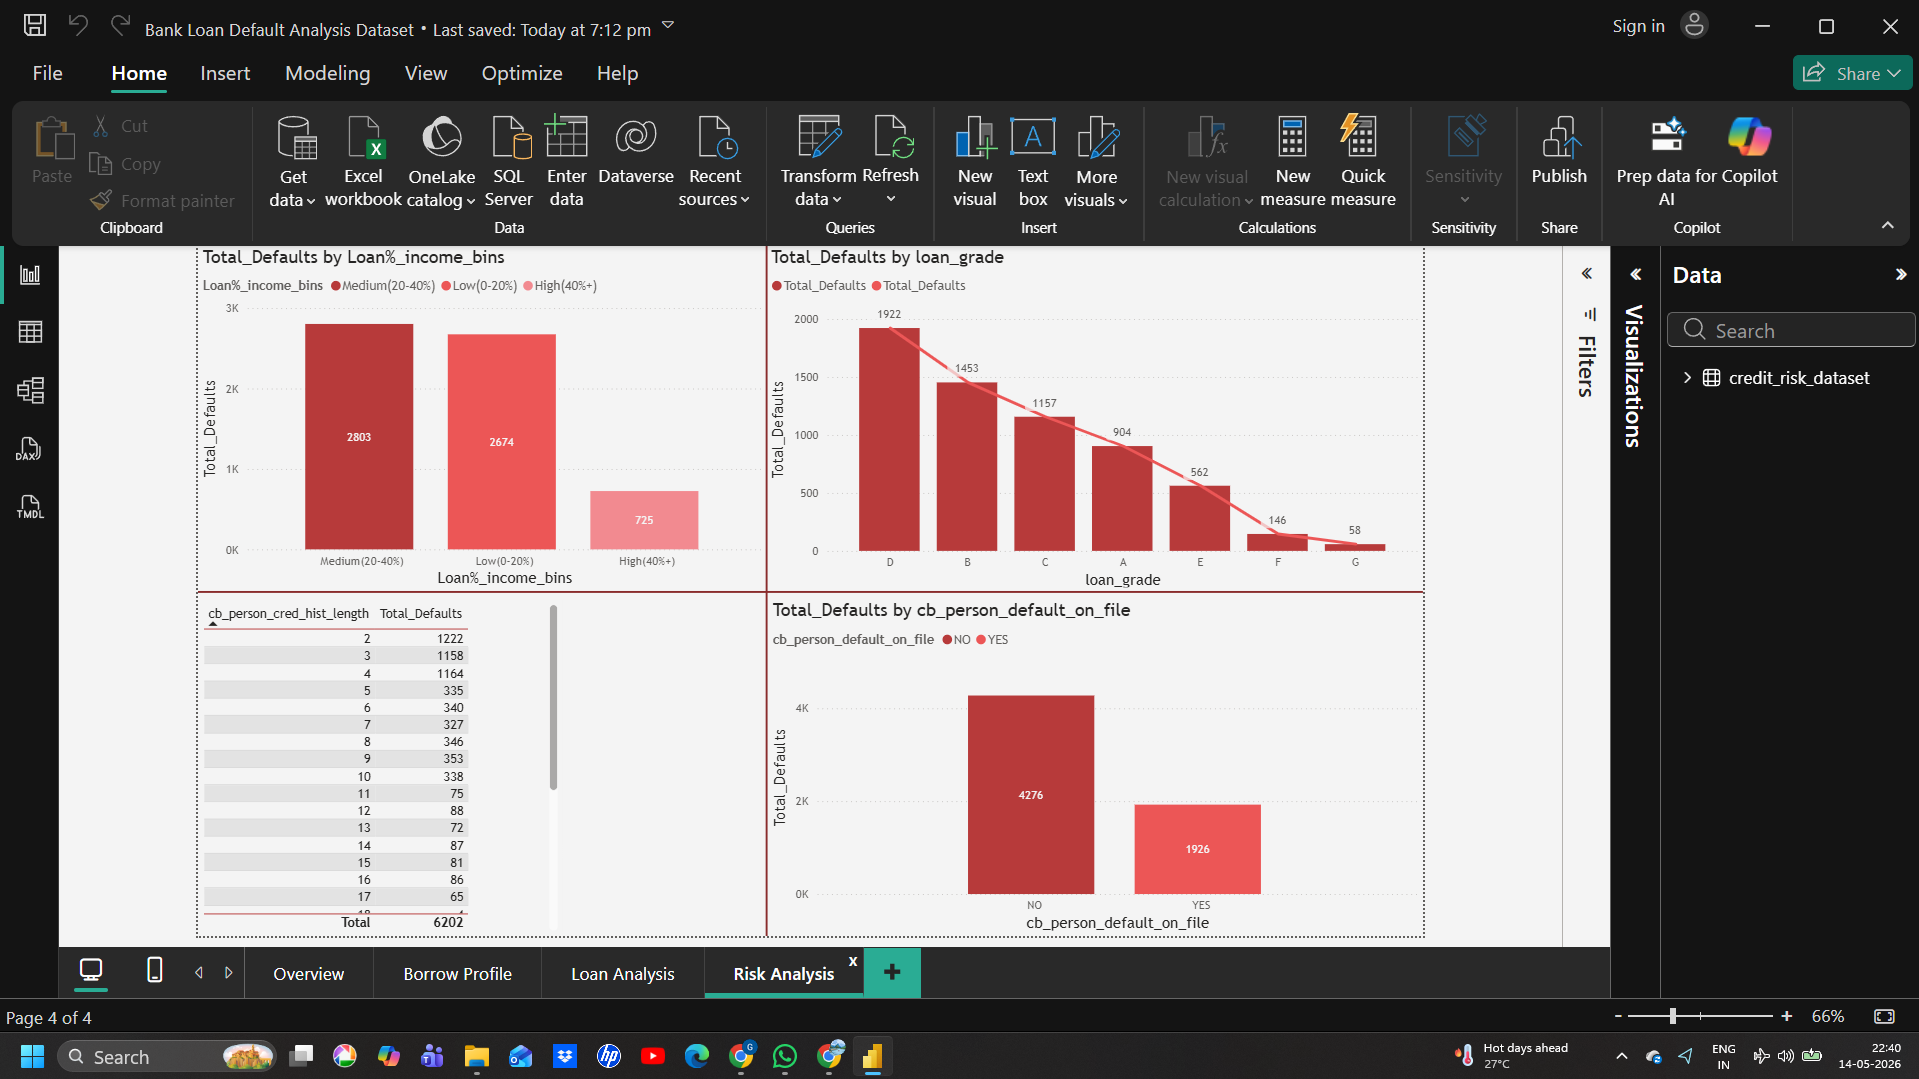

The dashboard page shown, as its layout file describes it:
{"tool":"powerbi","page":{"name":"Risk Analysis","canvas":[1280,720],"ordinal":3},"visuals":[{"type":"columnChart","title":"Total_Defaults by Loan%_income_bins","fields":{"Category":["credit_risk_dataset.Loan%_income_bins"],"Y":["credit_risk_dataset.Total_Defaults"],"Series":["credit_risk_dataset.Loan%_income_bins"]},"box":[0,0,593.7,360.3],"z":0},{"type":"columnChart","title":"Total_Defaults by cb_person_default_on_file ","fields":{"Category":["credit_risk_dataset.cb_person_default_on_file"],"Y":["credit_risk_dataset.Total_Defaults"],"Series":["credit_risk_dataset.cb_person_default_on_file"]},"box":[595.2,369.8,684.1,350.8],"z":1000},{"type":"tableEx","fields":{"Values":["credit_risk_dataset.cb_person_cred_hist_length","credit_risk_dataset.Total_Defaults"]},"box":[0,369.8,381,350.8],"z":2000},{"type":"lineClusteredColumnComboChart","title":" Total_Defaults by loan_grade","fields":{"Category":["credit_risk_dataset.loan_grade"],"Y":["credit_risk_dataset.Total_Defaults"],"Y2":["credit_risk_dataset.Total_Defaults"]},"box":[593.7,0,685.7,361.9],"z":2001},{"type":"shape","box":[0,342.9,1279.4,38.1],"z":2002},{"type":"shape","box":[573,0,42.9,720.6],"z":2003}]}

Visuals, with their boxes on the page's 1280x720 design canvas (x1, y1, x2, y2). These are canvas units, not pixel positions in the 1919x1079 screenshot, which may show the page scaled, cropped or inside an application window:
"Total_Defaults by Loan%_income_bins" columnChart: (left=0, top=0, right=594, bottom=360)
"Total_Defaults by cb_person_default_on_file " columnChart: (left=595, top=370, right=1279, bottom=721)
tableEx - credit_risk_dataset.cb_person_cred_hist_length x credit_risk_dataset.Total_Defaults: (left=0, top=370, right=381, bottom=721)
" Total_Defaults by loan_grade" lineClusteredColumnComboChart: (left=594, top=0, right=1279, bottom=362)
shape: (left=0, top=343, right=1279, bottom=381)
shape: (left=573, top=0, right=616, bottom=721)
